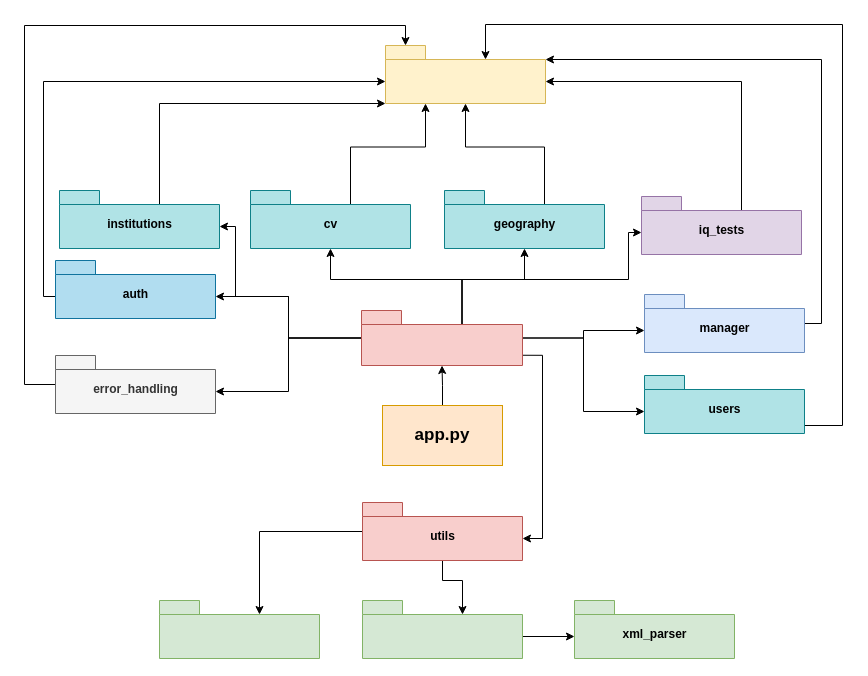
The diagram is 868 pixels wide and 676 high, and some of its shapes have lost their labels. Each missing label, with the centre of its shape:
"rest_consumer" belongs at point (239, 629).
"routes" belongs at point (441, 338).
"shared" belongs at point (465, 74).
"soap_consumer" belongs at point (442, 629).
